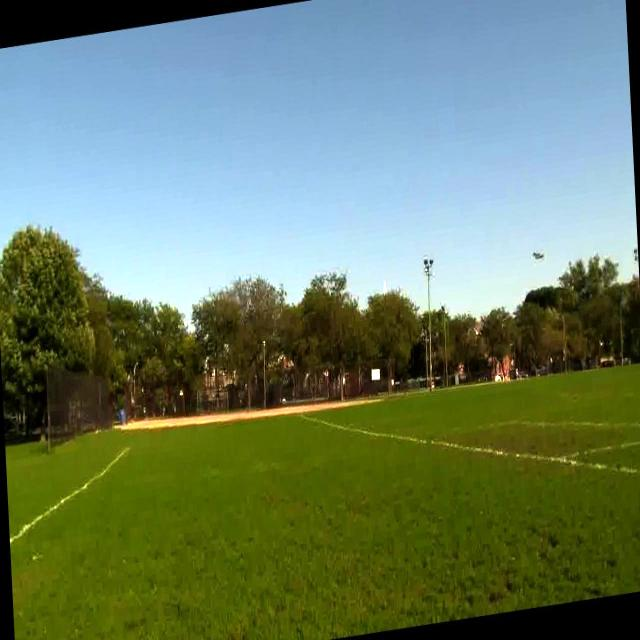drone: (528, 236, 547, 271)
